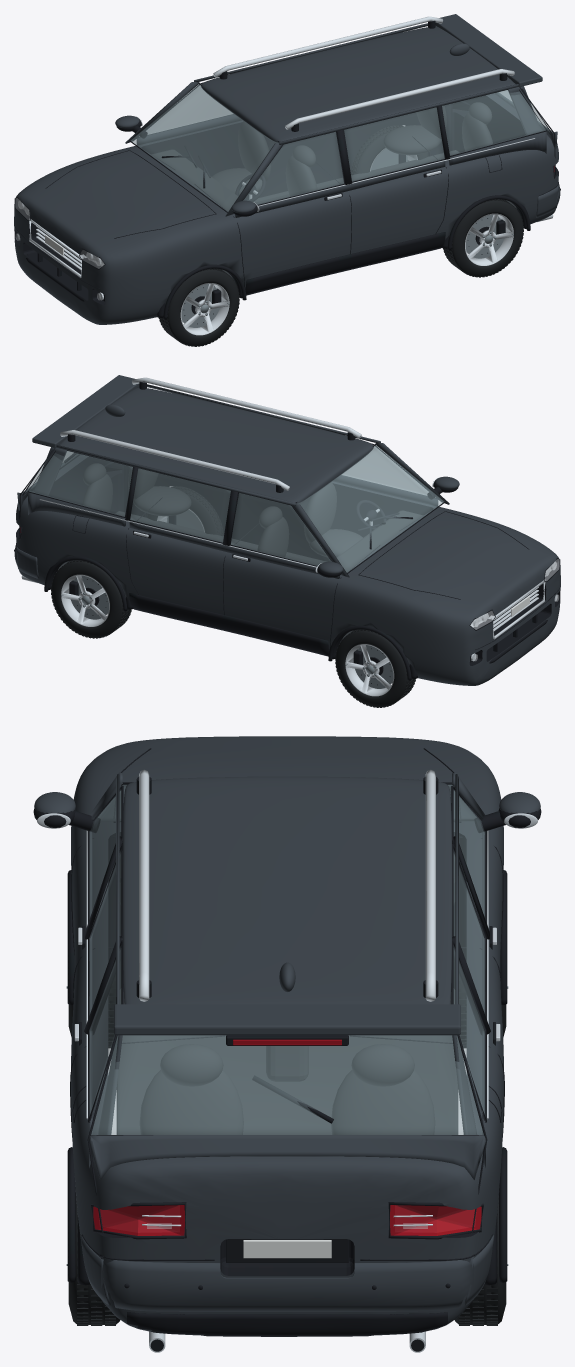
File: suv.glb
The picture shows the model from 3 angles, top to bottom: view 1: azimuth 30°, elevation 25°; view 2: azimuth 150°, elevation 25°; view 3: azimuth 270°, elevation 25°; orthographic projection. The views are drawn at different scales.
Visible parts, largest first — view 1: Watertight 14-station body shell, Crowned roof pressing, Raked laminated windshield, Rear side door glass, Rear quarter glass, Front side door glass, Formed lower door protective cladding, 107 reused Sculpted_tyre.002, 107 reused Sculpted_tyre, Roof spoiler lip, Front side door glass.001, Painted door glazing lower sill (+28 smaller); view 2: Watertight 14-station body shell, Crowned roof pressing, Raked laminated windshield, Rear side door glass.001, Rear quarter glass.001, Front side door glass.001, Formed lower door protective cladding.001, 107 reused Sculpted_tyre.003, 107 reused Sculpted_tyre.001, Roof spoiler lip, Front side door glass, Painted door glazing lower sill.001 (+28 smaller); view 3: Watertight 14-station body shell, Crowned roof pressing, Tailgate rear glazing, Formed painted rear bumper cover, Cabin carpet, Roof spoiler lip, Painted rear glazing lower surround, Sculpted rear lower bumper insert, Contoured seat back.002, Contoured seat back.003, Raised satin roof rail.001, Raised satin roof rail (+32 smaller).
Part boxes in pixels (left/top/right/bottom): Watertight 14-station body shell: left=14, top=93, right=558, bottom=324; Crowned roof pressing: left=201, top=26, right=515, bottom=142; Raked laminated windshield: left=130, top=84, right=277, bottom=211; Rear side door glass: left=344, top=107, right=444, bottom=181; Rear quarter glass: left=442, top=90, right=545, bottom=155; Front side door glass: left=243, top=132, right=343, bottom=204; Formed lower door protective cladding: left=245, top=232, right=445, bottom=295; 107 reused Sculpted_tyre.002: left=444, top=199, right=523, bottom=276; 107 reused Sculpted_tyre: left=159, top=269, right=239, bottom=346; Roof spoiler lip: left=435, top=14, right=542, bottom=86; Front side door glass.001: left=146, top=85, right=232, bottom=134; Painted door glazing lower sill: left=235, top=158, right=445, bottom=217; Watertight 14-station body shell: left=16, top=454, right=560, bottom=685; Crowned roof pressing: left=59, top=387, right=373, bottom=503; Raked laminated windshield: left=297, top=445, right=444, bottom=572; Rear side door glass.001: left=130, top=468, right=230, bottom=542; Rear quarter glass.001: left=29, top=451, right=132, bottom=516; Front side door glass.001: left=231, top=493, right=331, bottom=565; Formed lower door protective cladding.001: left=129, top=593, right=329, bottom=656; 107 reused Sculpted_tyre.003: left=51, top=560, right=130, bottom=637; 107 reused Sculpted_tyre.001: left=335, top=629, right=415, bottom=707; Roof spoiler lip: left=32, top=375, right=139, bottom=447; Front side door glass: left=342, top=446, right=428, bottom=495; Painted door glazing lower sill.001: left=129, top=519, right=339, bottom=578; Watertight 14-station body shell: left=71, top=736, right=503, bottom=1335; Crowned roof pressing: left=122, top=776, right=452, bottom=1004; Tailgate rear glazing: left=91, top=1035, right=483, bottom=1134; Formed painted rear bumper cover: left=101, top=1256, right=473, bottom=1311; Cabin carpet: left=116, top=988, right=458, bottom=1134; Roof spoiler lip: left=114, top=1004, right=460, bottom=1035; Painted rear glazing lower surround: left=89, top=1135, right=485, bottom=1179; Sculpted rear lower bumper insert: left=127, top=1312, right=447, bottom=1336; Contoured seat back.002: left=139, top=1070, right=243, bottom=1134; Contoured seat back.003: left=331, top=1070, right=435, bottom=1134; Raised satin roof rail.001: left=425, top=769, right=435, bottom=1001; Raised satin roof rail: left=139, top=769, right=149, bottom=1001.
Bounding box in the file's own units: 4.76 × 1.83 × 2.24.
Materials: 10 (10 with a texture image).
